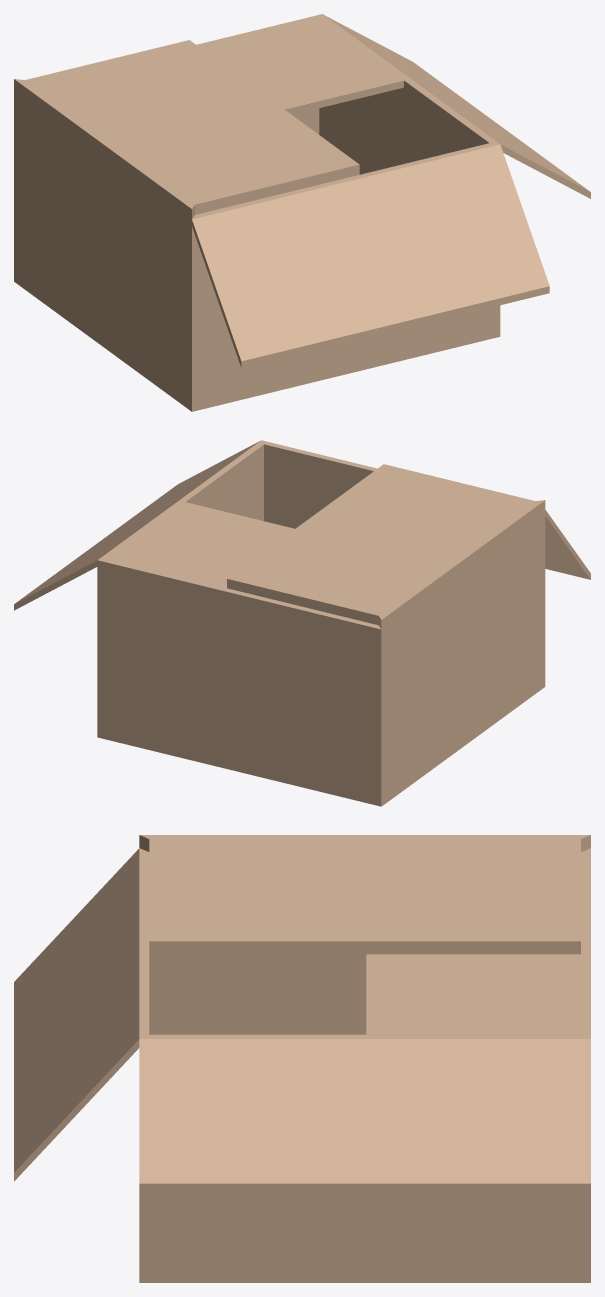
3 renders of one model, top to bottom at view 1: azimuth 30°, elevation 25°; view 2: azimuth 150°, elevation 25°; view 3: azimuth 270°, elevation 25°, orthographic. The views are drawn at different scales.
Visible parts, largest first — view 1: Box; view 2: Box; view 3: Box.
Part boxes in pixels (x1,y1,x2,y2): Box: (14,14,590,411); Box: (14,440,590,806); Box: (14,835,590,1282).
Size of the model in its own units: 2176 by 1057 by 2149.
Materials: 1 (1 with a texture image).
